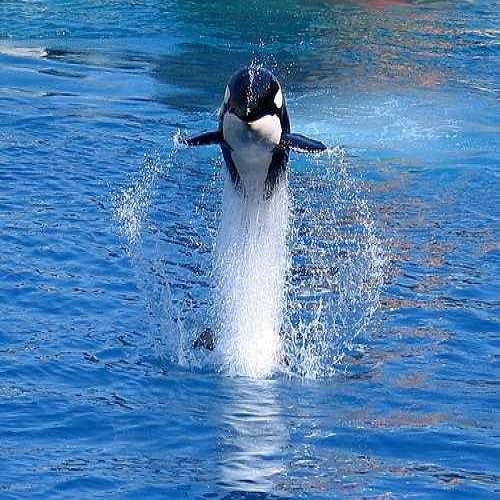killer_whale-endangered: (155, 14, 337, 209)
